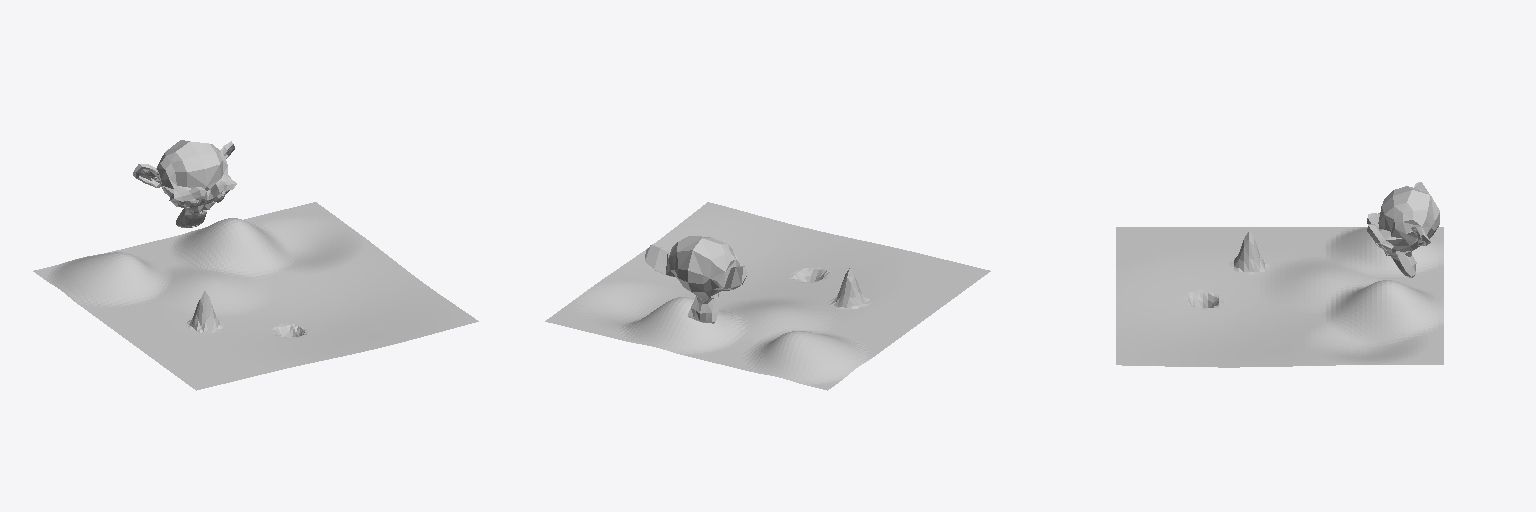
Rendered from Enviro Test.obj.
The picture shows the model from 3 angles: view 1: azimuth 30°, elevation 25°; view 2: azimuth 150°, elevation 25°; view 3: azimuth 270°, elevation 25°; orthographic projection.
Parts seen in each view (by area): view 1: Ground, Suzanne; view 2: Ground, Suzanne; view 3: Ground, Suzanne.
Boxes of the visible parts, x1,y1,x2,y2 form: Ground: [33, 202, 478, 390]; Suzanne: [133, 140, 236, 227]; Ground: [545, 202, 990, 390]; Suzanne: [645, 236, 748, 323]; Ground: [1116, 227, 1443, 367]; Suzanne: [1367, 182, 1439, 277].
Bounding box in the file's own units: 118 × 52.72 × 118.